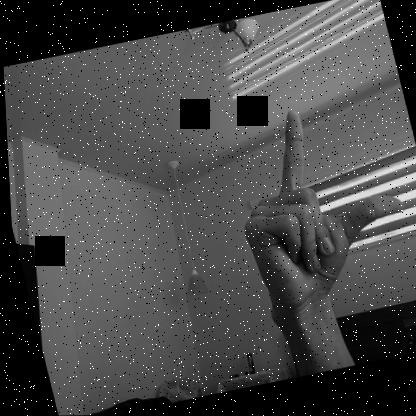L: (214, 90, 415, 311)
